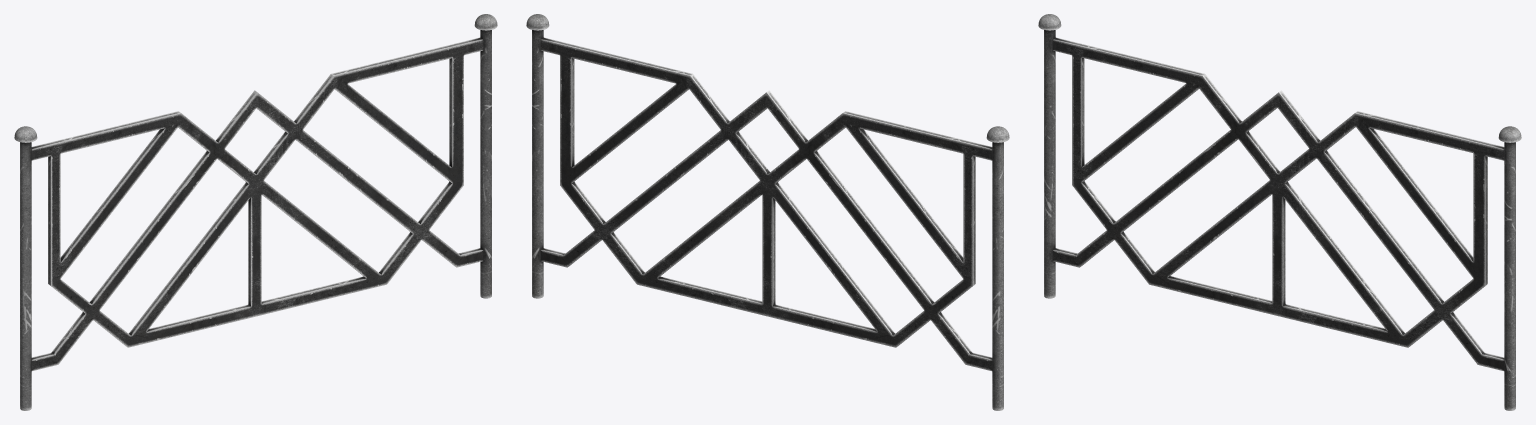
Rendered from zab_2.obj.
The picture shows the model from 3 angles, left to right: view 1: azimuth 30°, elevation 25°; view 2: azimuth 150°, elevation 25°; view 3: azimuth 330°, elevation 25°; orthographic projection.
Visible parts, largest first — view 1: ________0; view 2: ________0; view 3: ________0.
Part boxes in pixels (x1,y1,x2,y2): ________0: (14, 14, 497, 410); ________0: (526, 14, 1009, 410); ________0: (1038, 14, 1521, 410).
Bounding box in the file's own units: 0.9657 × 0.5399 × 0.04.
1 material, 1 textured.
